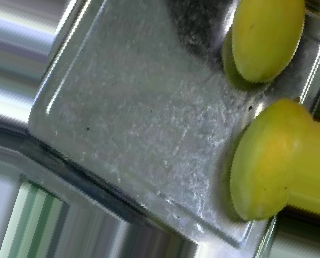Mango: (226, 98, 311, 220), (232, 1, 306, 83)
